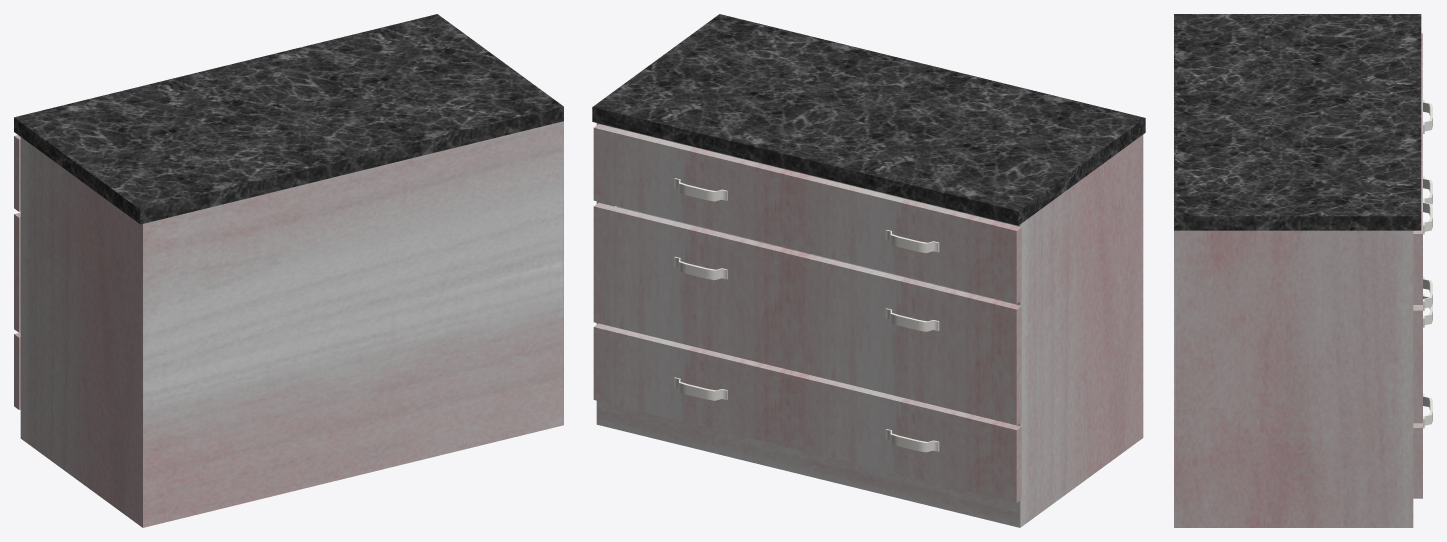
Rendered from cupbpard4.fbx.
3 views of the same model, side by side, from view 1: azimuth 30°, elevation 25°; view 2: azimuth 150°, elevation 25°; view 3: azimuth 270°, elevation 25° (orthographic). The views are drawn at different scales.
Parts seen in each view (by area): view 1: cupboard4; view 2: cupboard4; view 3: cupboard4.
Boxes of the visible parts, x1=… form: cupboard4: x1=14, y1=14, x2=563, y2=527; cupboard4: x1=592, y1=14, x2=1145, y2=527; cupboard4: x1=1174, y1=14, x2=1432, y2=527.
Bounding box in the file's own units: 2.22 × 1.6 × 1.2.
